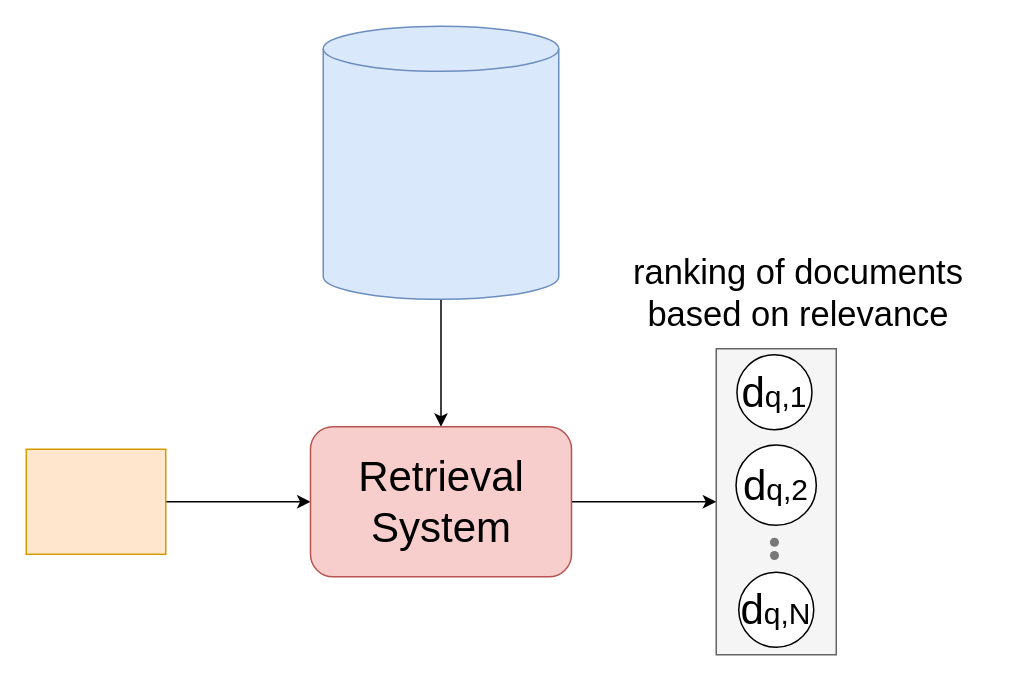
Image size: 1028x681. Some labels were removed from this diagram. Here are the shapes that lost their labels. From the top down, the box of each, then its label:
(322, 25, 559, 299): documents D={d 1 ,d 2 ,...d N }
(25, 448, 166, 554): query q
